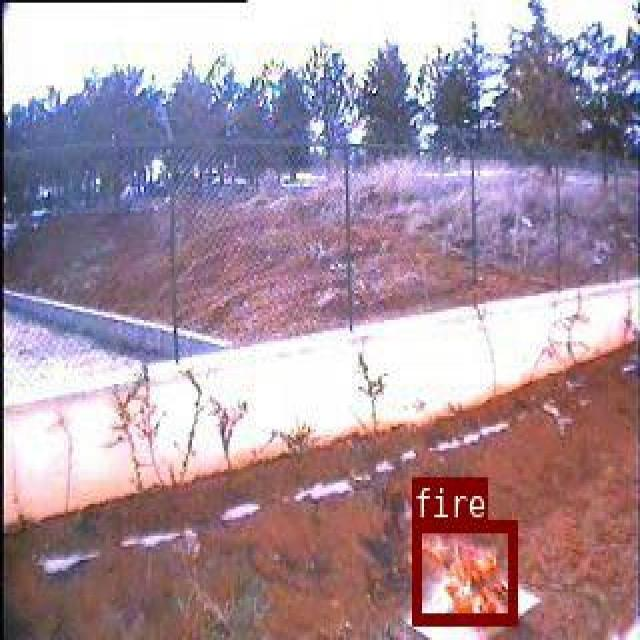fire: (411, 518, 516, 624)
